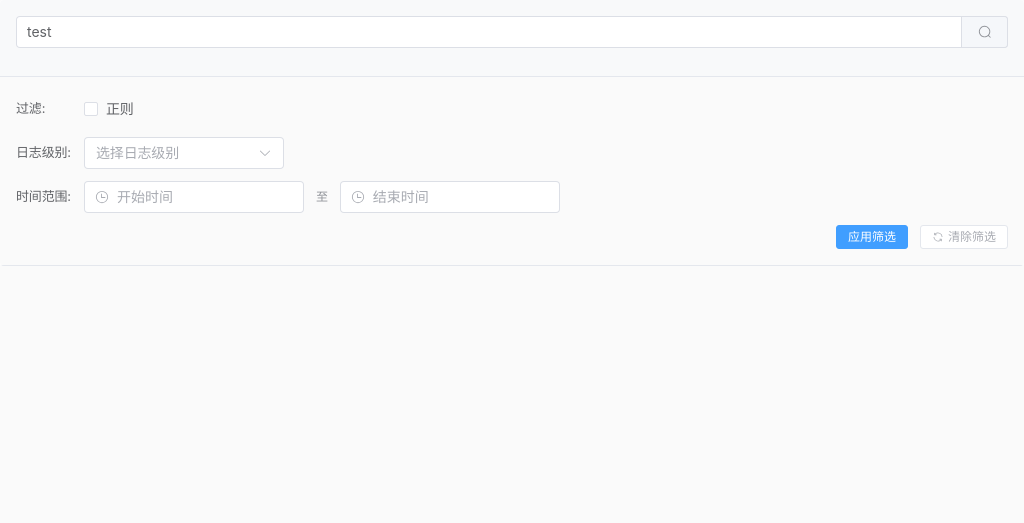
Test: SearchPanel › Search Results Display › should display log level tags with correct colors
What coordinates should you click on to do the following:
click the button with test id "search-button"
I would click on:
 (985, 32)
Its box is top-left (962, 16), bottom-right (1008, 48).
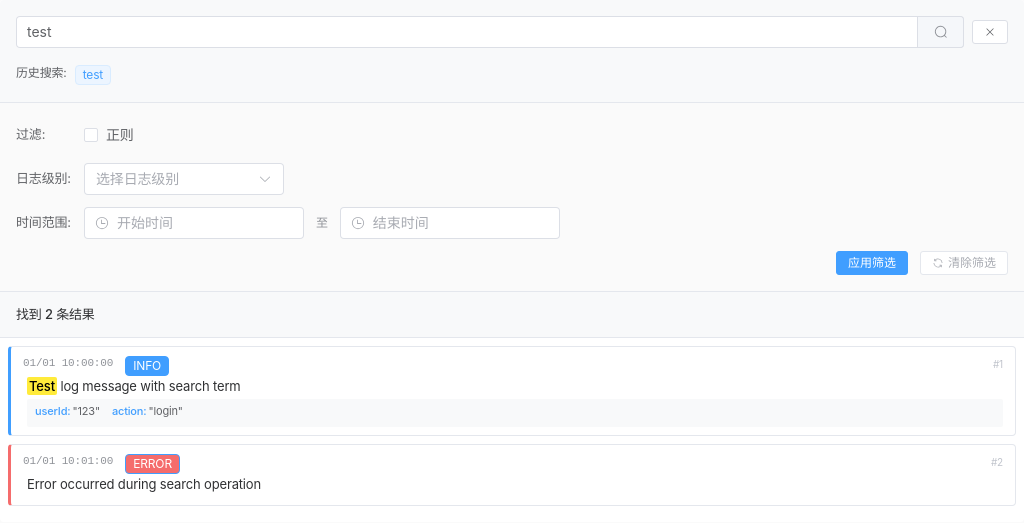
Expected: the element with class "result-level" reads "INFO", top-left (133, 358), bottom-right (161, 373)
Expected: the element with class "result-level" reads "ERROR", top-left (133, 456), bottom-right (172, 471)
